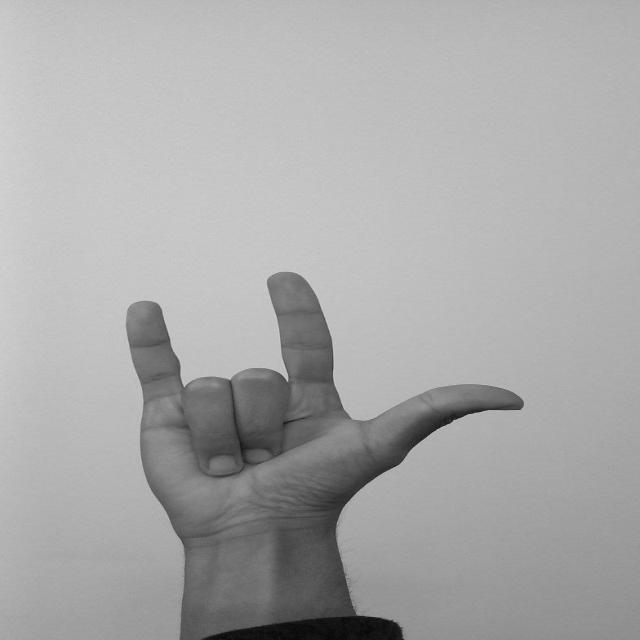i love you: (106, 262, 536, 582)
